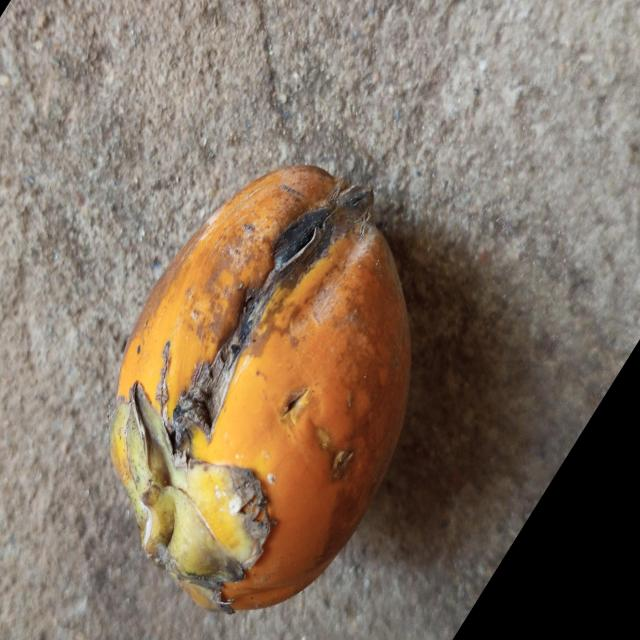damaged: (110, 166, 410, 611)
